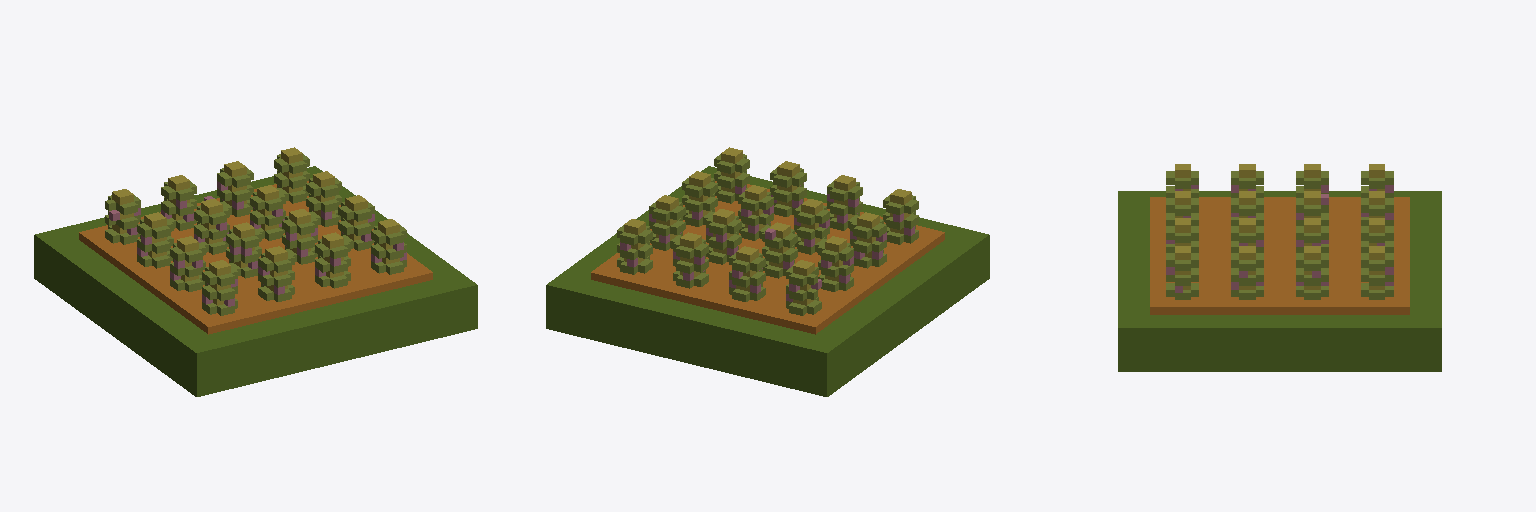
The picture shows the model from 3 angles: view 1: azimuth 30°, elevation 25°; view 2: azimuth 150°, elevation 25°; view 3: azimuth 270°, elevation 25°; orthographic projection.
Visible parts, largest first — view 1: object 1; view 2: object 1; view 3: object 1.
Part boxes in pixels (left/top/right/bottom): object 1: left=34, top=147, right=477, bottom=396; object 1: left=546, top=147, right=989, bottom=396; object 1: left=1118, top=164, right=1441, bottom=371.
Bounding box in the file's own units: 4 × 1.3 × 4.
Materials: 1 (1 with a texture image).